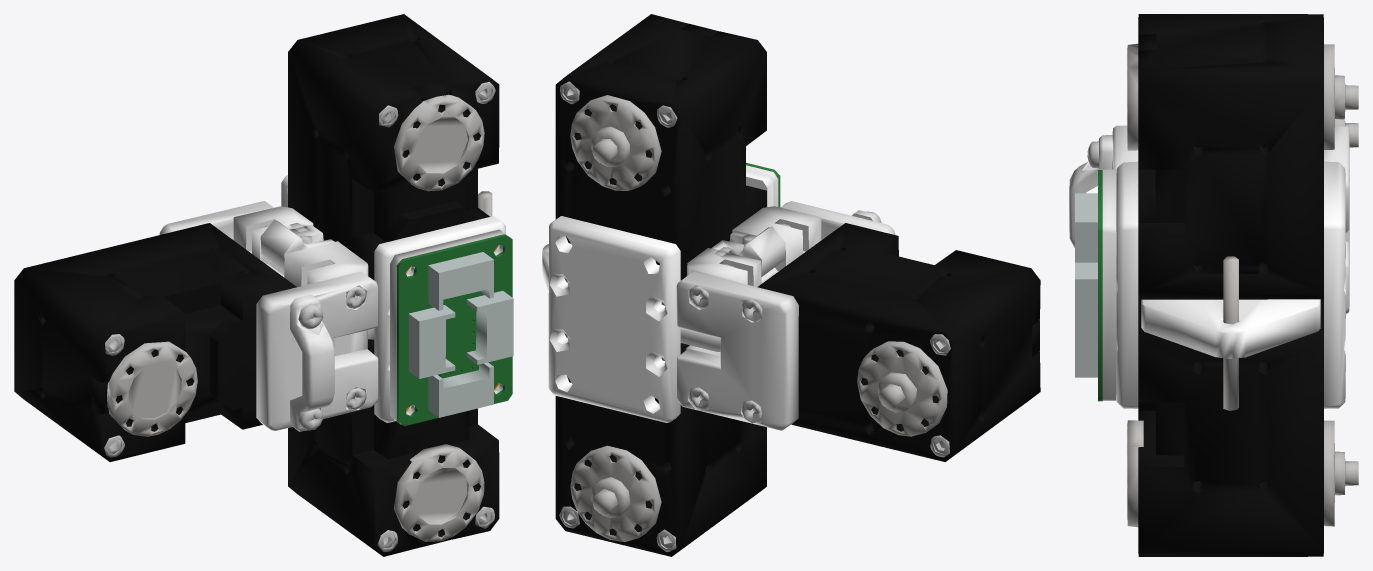
Rendered from link_body_05.obj.
3 renders of one model, left to right at view 1: azimuth 30°, elevation 25°; view 2: azimuth 150°, elevation 25°; view 3: azimuth 270°, elevation 25°, orthographic. The views are drawn at different scales.
Visible parts, largest first — view 1: link_body_05; view 2: link_body_05; view 3: link_body_05.
Part boxes in pixels (<box>): link_body_05: <box>14,14,513,556</box>; link_body_05: <box>542,14,1040,556</box>; link_body_05: <box>1069,14,1358,556</box>.
Bounding box in the file's own units: 102 × 98.5 × 52.97.
